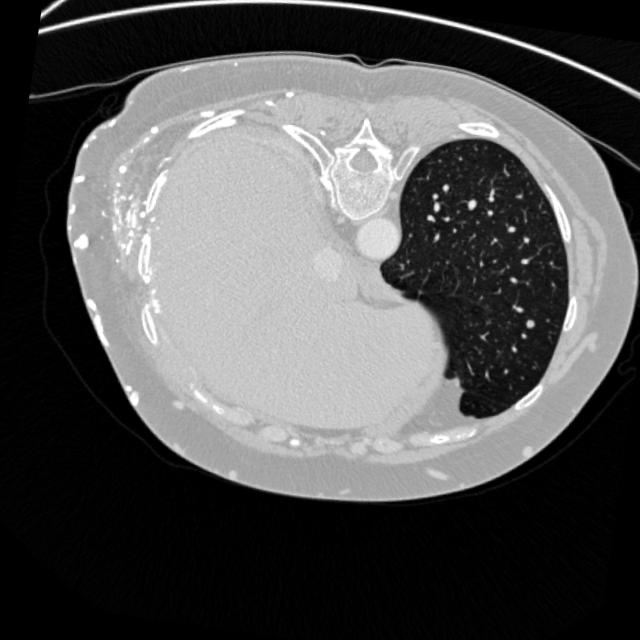nodule: (516, 312, 539, 336)
